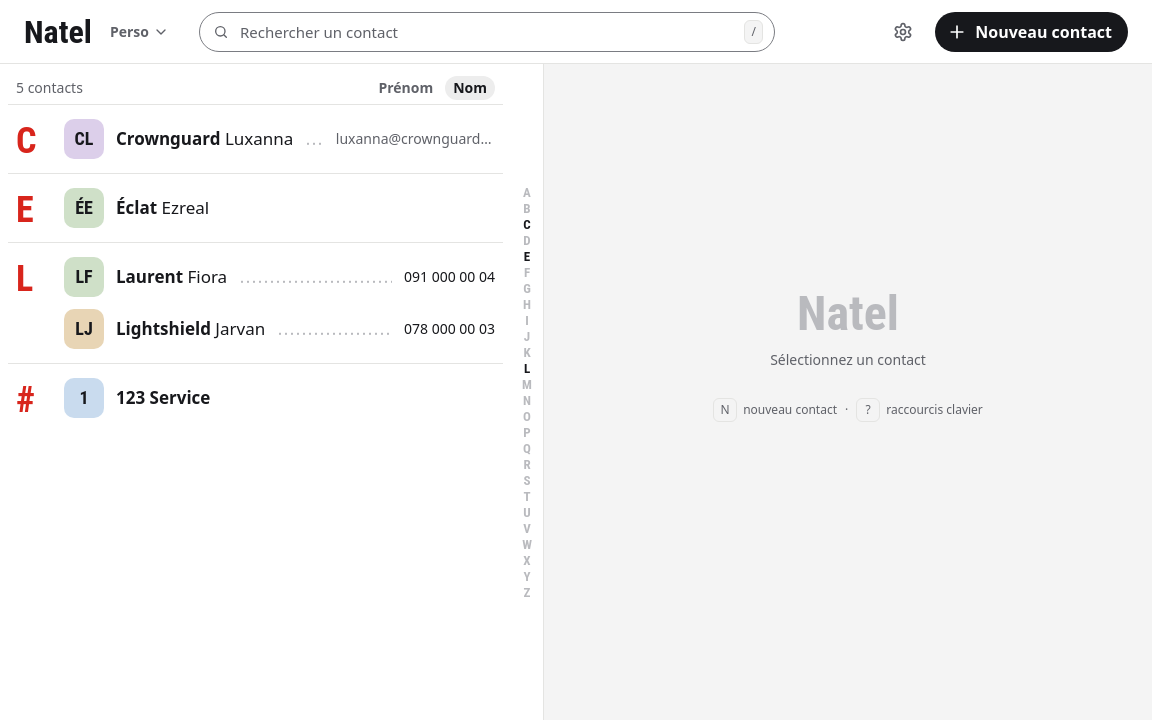
Test: search keyboard shortcuts › does not hijack '/' while the search box is being typed in
Click the search field: {"x": 487, "y": 32} 199,12 -> 775,52
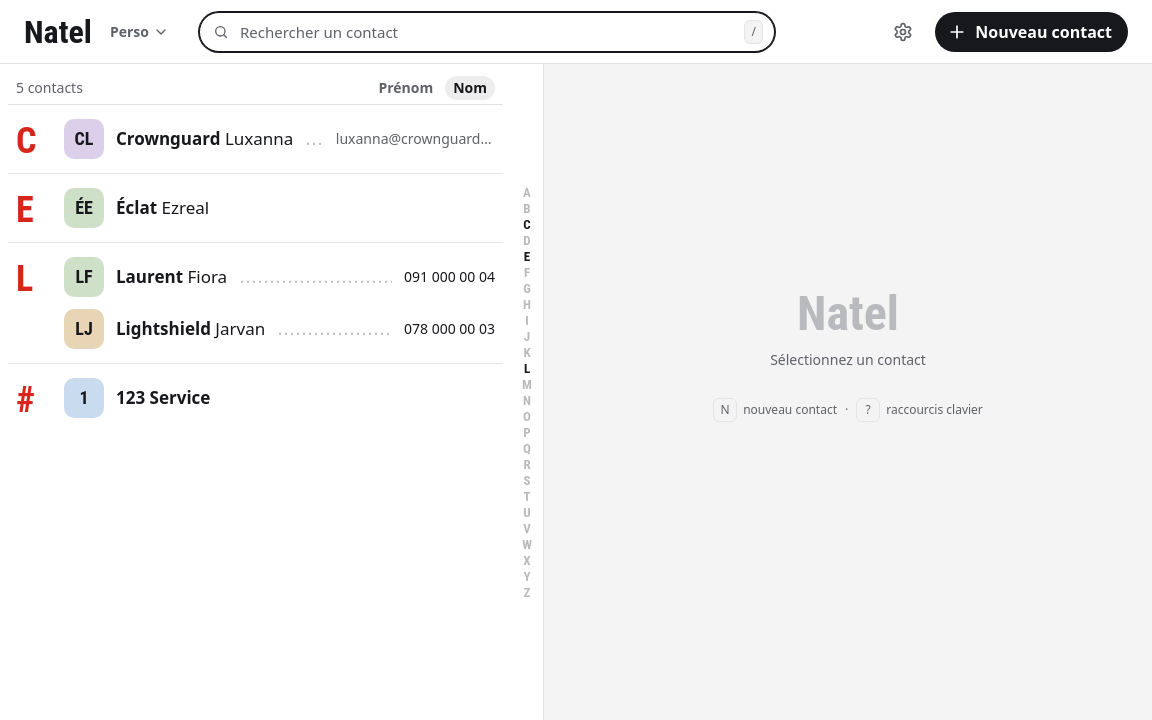
Type keys "/"
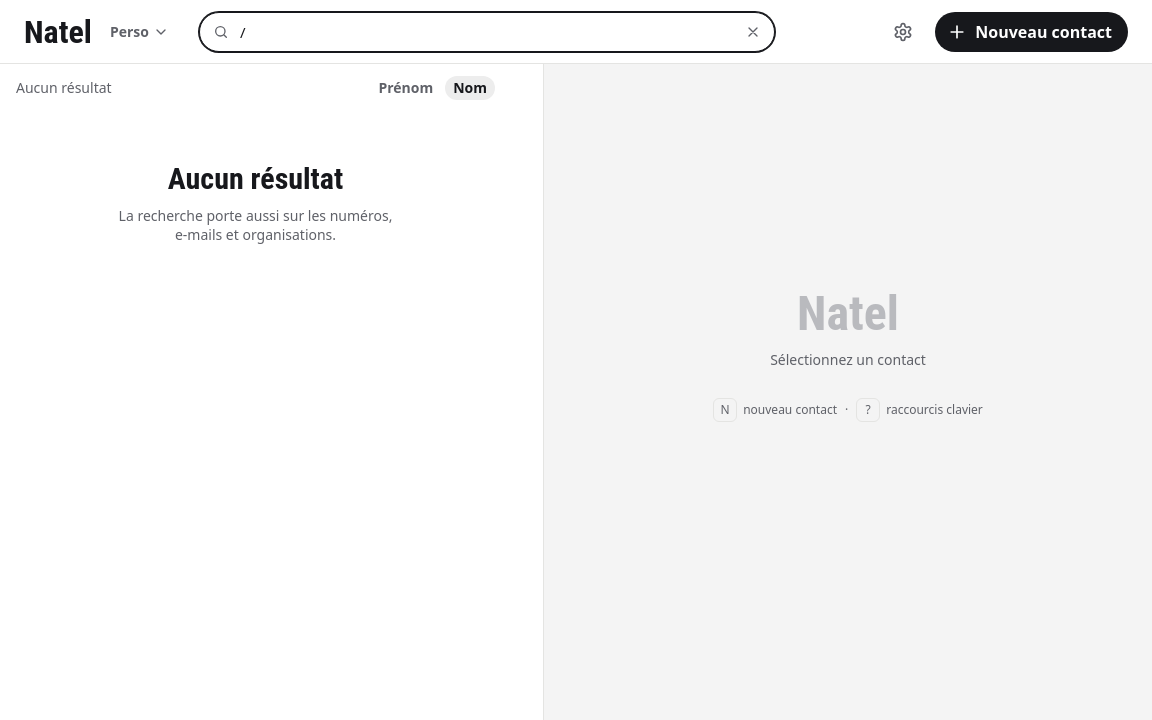
Now the search field holds "/", box 199,12 -> 775,52
